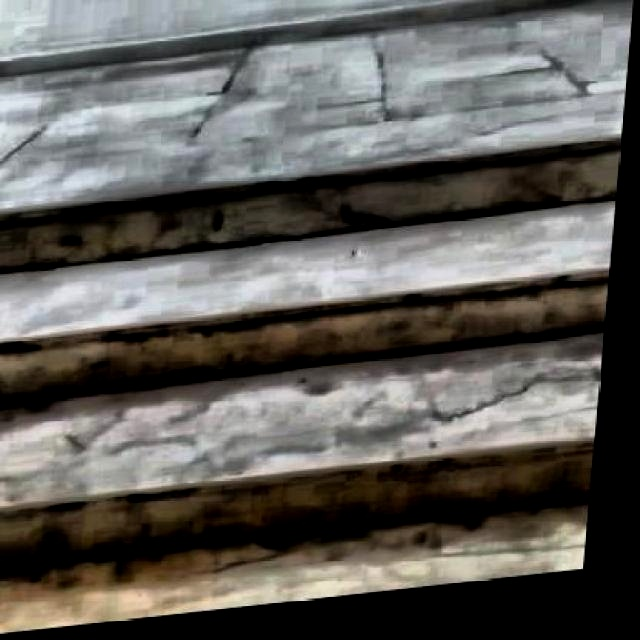stair: (0, 148, 623, 638)
